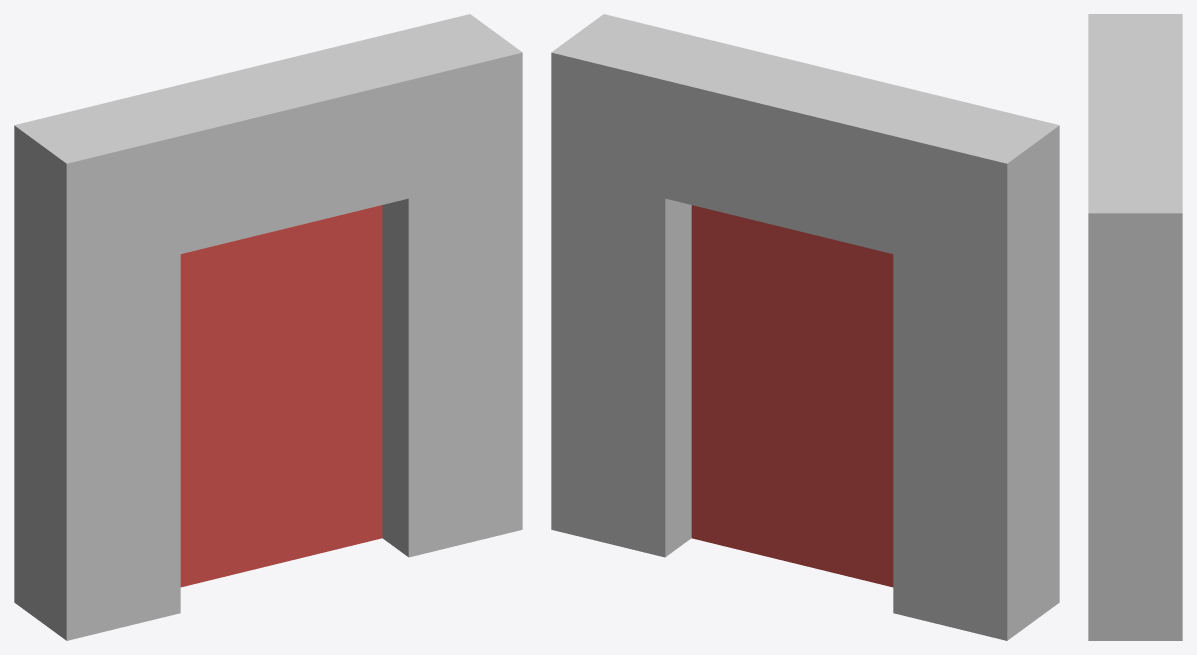
File: sm_DummyGeo_BigWindow_Top.fbx
3 views of the same model, side by side, from view 1: azimuth 30°, elevation 25°; view 2: azimuth 150°, elevation 25°; view 3: azimuth 270°, elevation 25° (orthographic). The views are drawn at different scales.
Visible parts, largest first — view 1: Cube, Plane; view 2: Cube, Plane; view 3: Cube.
Boxes of the visible parts, box(x1,y1,x2,y2) form: Cube: box(14, 14, 522, 640); Plane: box(180, 205, 382, 587); Cube: box(551, 14, 1059, 640); Plane: box(691, 205, 893, 587); Cube: box(1088, 14, 1182, 640).
Bounding box in the file's own units: 500 × 500 × 100.
